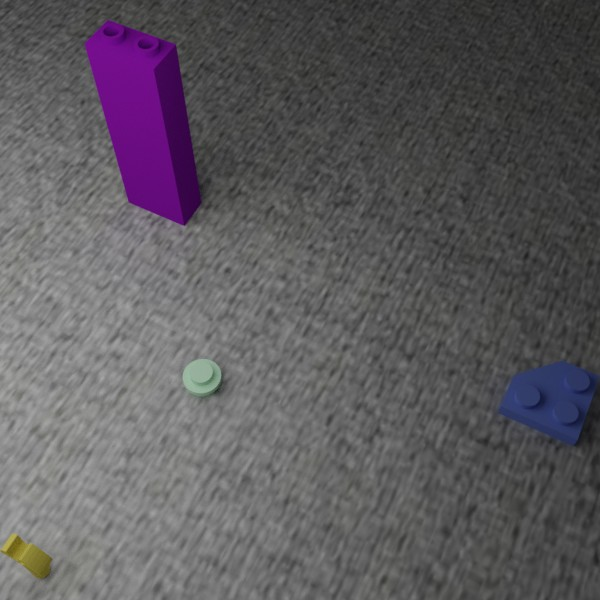lego: (84, 19, 201, 226), (497, 360, 600, 446), (0, 533, 53, 578), (182, 358, 221, 396)
